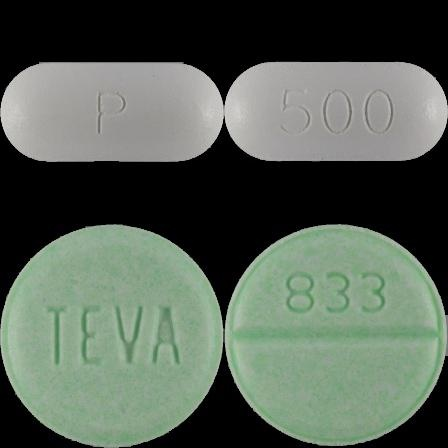61919-054: (0, 0, 224, 224)
